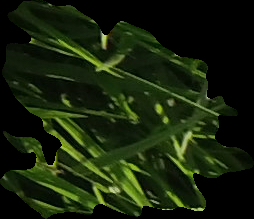grass: (1, 1, 253, 218)
